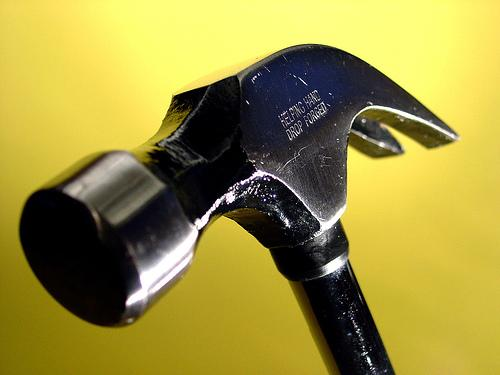hammer: (16, 40, 459, 374)
